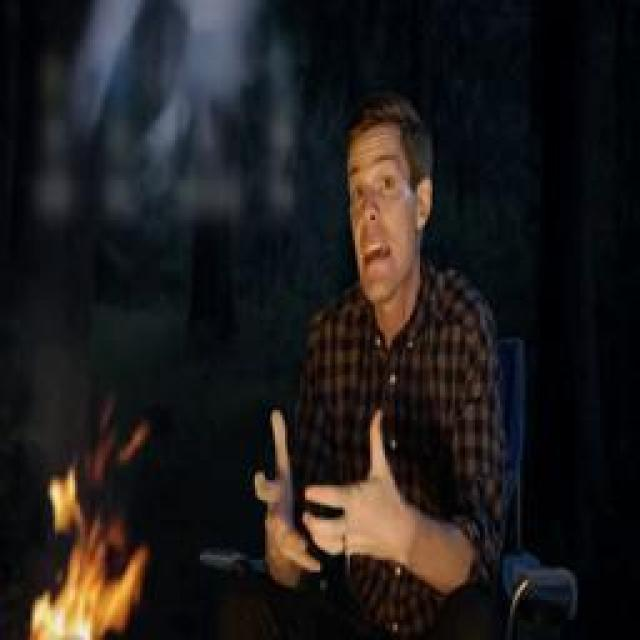Fire: (31, 425, 149, 640)
